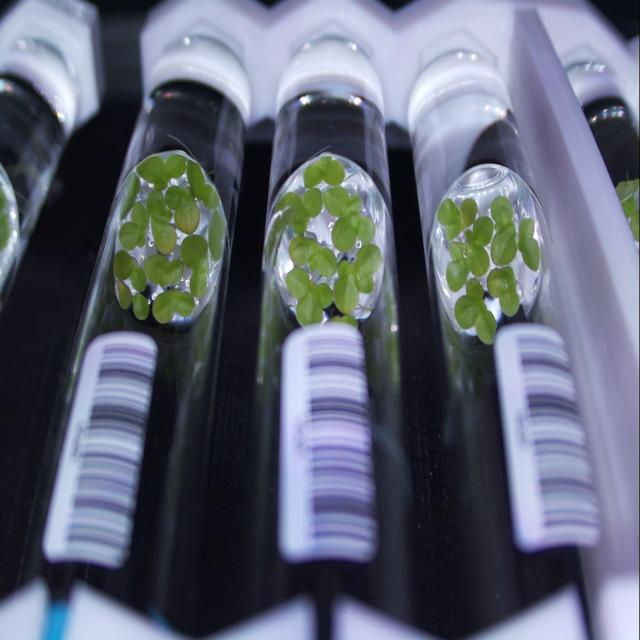Lemna-Gibba: (446, 217, 494, 290), (322, 187, 375, 252), (334, 243, 382, 314), (285, 267, 332, 325), (455, 279, 496, 345), (289, 235, 338, 277), (146, 190, 176, 255), (491, 195, 518, 266), (136, 153, 186, 190), (180, 235, 209, 297), (436, 198, 478, 240), (165, 185, 200, 235), (186, 160, 220, 210), (488, 267, 520, 315), (119, 202, 150, 250), (152, 290, 195, 324), (275, 192, 309, 235), (114, 250, 146, 292), (144, 254, 184, 287), (304, 157, 345, 188), (518, 218, 541, 270), (120, 172, 140, 219), (209, 210, 226, 262), (302, 187, 322, 217), (116, 280, 132, 309), (132, 294, 149, 320), (331, 314, 358, 329)
